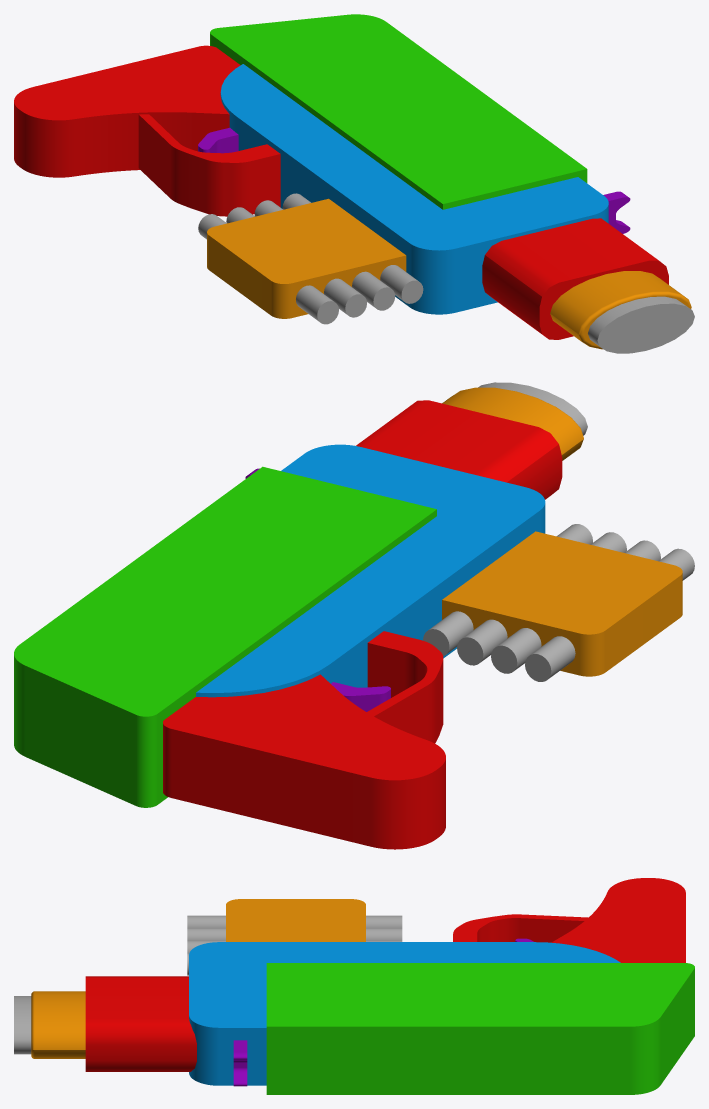
File: Playdate Pistol Model.fbx
3 views of the same model, one above another, from view 1: azimuth 30°, elevation 25°; view 2: azimuth 150°, elevation 25°; view 3: azimuth 270°, elevation 25° (orthographic). The views are drawn at different scales.
Visible parts, largest first — view 1: pCylinder29, pCylinder25, pCylinder26, polySurface4, polySurface3; view 2: pCylinder29, pCylinder25, polySurface3, pCylinder26; view 3: pCylinder29, pCylinder25, pCylinder26.
Part boxes in pixels (x1,y1,x2,y2): pCylinder29: (14, 14, 691, 349); pCylinder25: (198, 193, 423, 324); pCylinder26: (588, 296, 694, 353); polySurface4: (443, 169, 688, 344); polySurface3: (292, 256, 406, 317); pCylinder29: (14, 387, 682, 849); pCylinder25: (423, 524, 694, 681); polySurface3: (442, 600, 579, 675); pCylinder26: (478, 382, 587, 435); pCylinder29: (31, 878, 694, 1094); pCylinder25: (187, 915, 402, 975); pCylinder26: (14, 996, 31, 1054).
Bounding box in the file's own units: 27.08 × 5.13 × 46.4.
